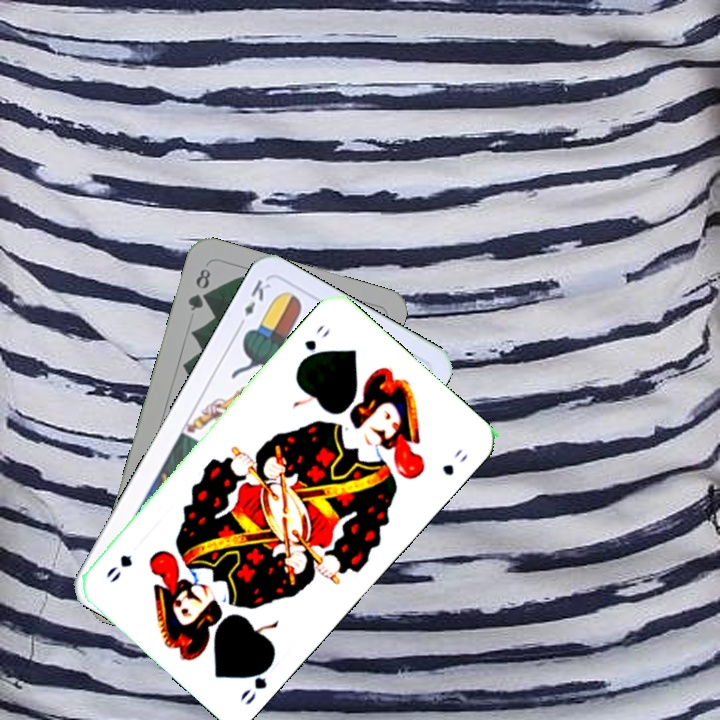EK: (234, 275, 274, 331)
G8: (183, 264, 213, 314)
GO: (236, 655, 277, 708), (295, 321, 333, 367)
